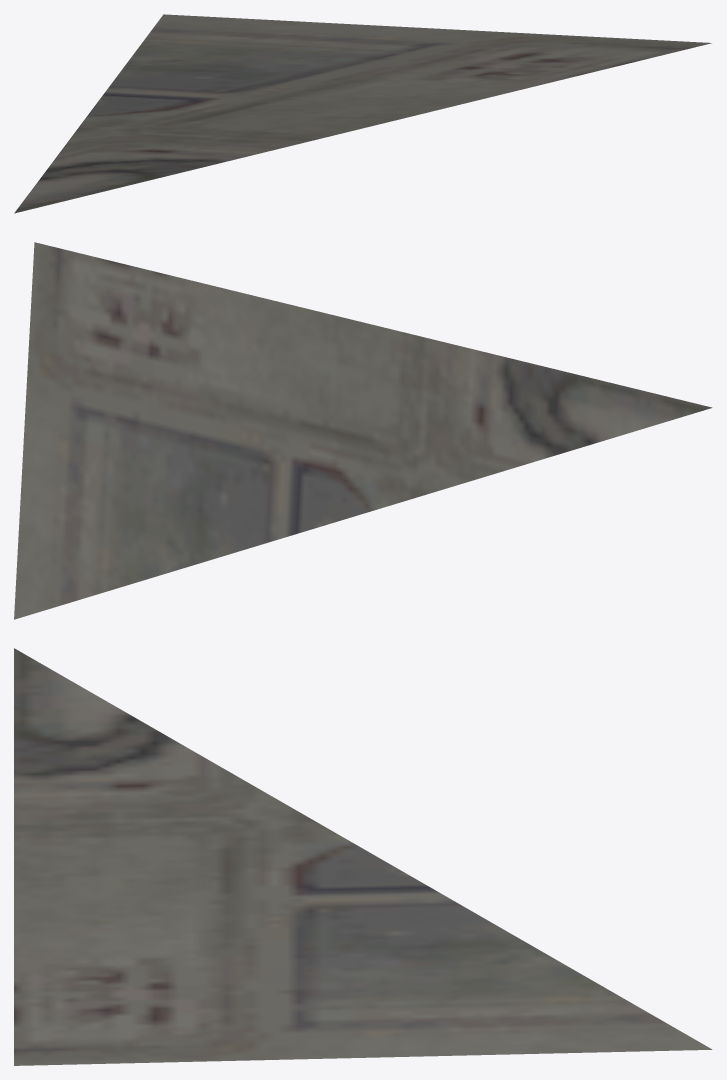
The model's file is Turret_01.glb.
3 views of the same model, one above another, from view 1: azimuth 30°, elevation 25°; view 2: azimuth 150°, elevation 25°; view 3: azimuth 270°, elevation 25° (orthographic). The views are drawn at different scales.
Parts seen in each view (by area): view 1: set_0_group_0; view 2: set_0_group_0; view 3: set_0_group_0.
Part boxes in pixels (left/top/right/bottom): set_0_group_0: left=14, top=14, right=711, bottom=213; set_0_group_0: left=14, top=242, right=712, bottom=619; set_0_group_0: left=14, top=648, right=712, bottom=1065.
Bounding box in the file's own units: 0.0656 × 0.0104 × 0.0463.
Materials: 1 (1 with a texture image).
